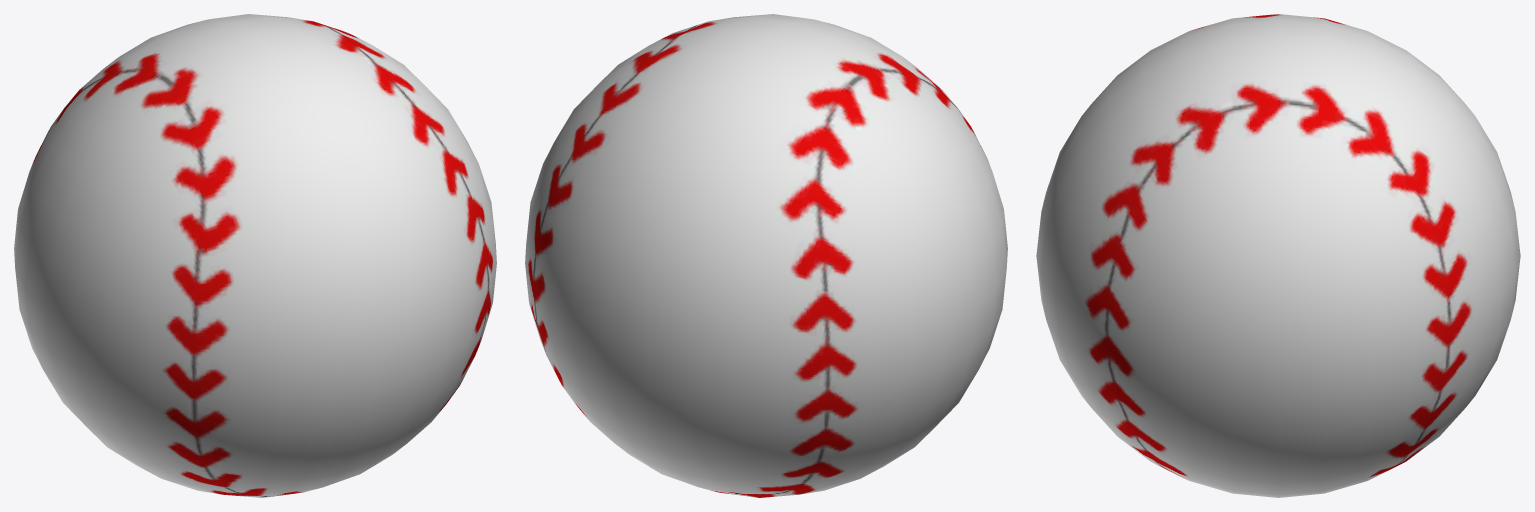
The model's file is Baseball.fbx.
The picture shows the model from 3 angles, left to right: view 1: azimuth 30°, elevation 25°; view 2: azimuth 150°, elevation 25°; view 3: azimuth 270°, elevation 25°; orthographic projection.
Visible parts, largest first — view 1: Baseball; view 2: Baseball; view 3: Baseball.
Part boxes in pixels (bbox=[...]): Baseball: bbox=[14, 14, 496, 497]; Baseball: bbox=[525, 14, 1007, 497]; Baseball: bbox=[1036, 14, 1520, 497].
Size of the model in its own units: 8358 by 8358 by 8358.
Materials: 1 (1 with a texture image).
